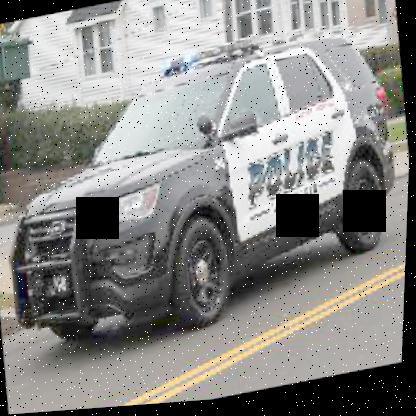emergency: (0, 15, 414, 351)
